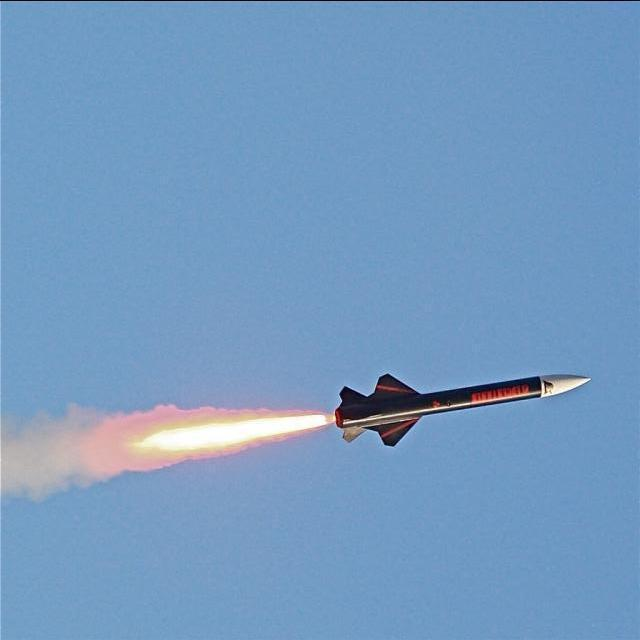missile: (338, 367, 592, 448)
